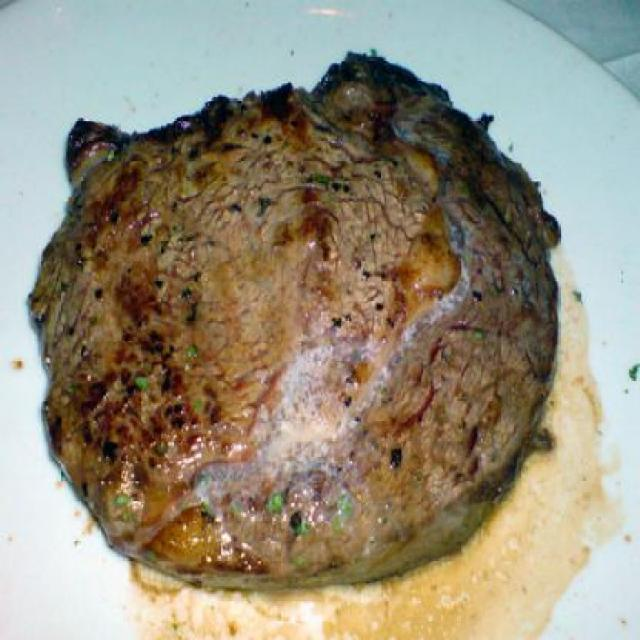Steak: (50, 91, 588, 576)
